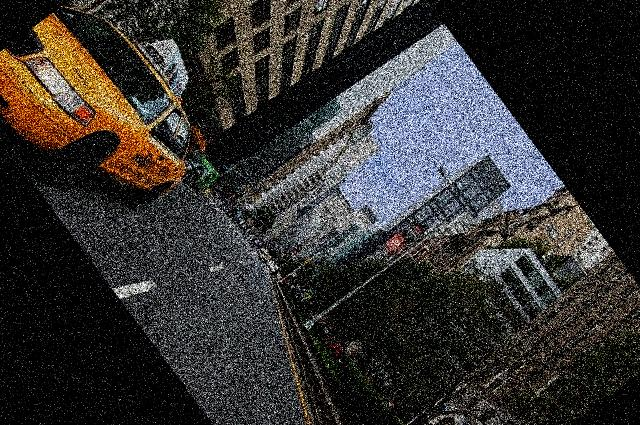taxi: (1, 1, 187, 204)
